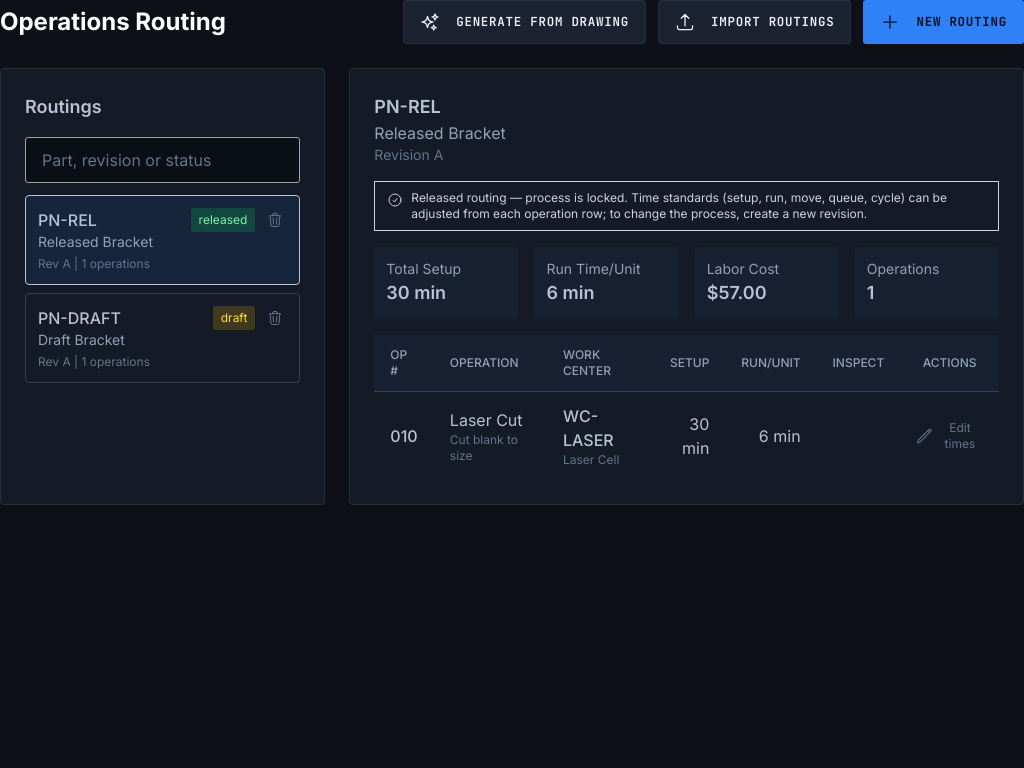
Test: Routing — released time-standard editing › surfaces the server message on a 400
Expected: the text "Laser Cut" is shown, top-left (450, 408), bottom-right (531, 432)
What coordinates should you click on to do the following:
click the button titled "Edit time standards"
I would click on:
 (950, 436)
Its box is top-left (916, 420), bottom-right (983, 452).
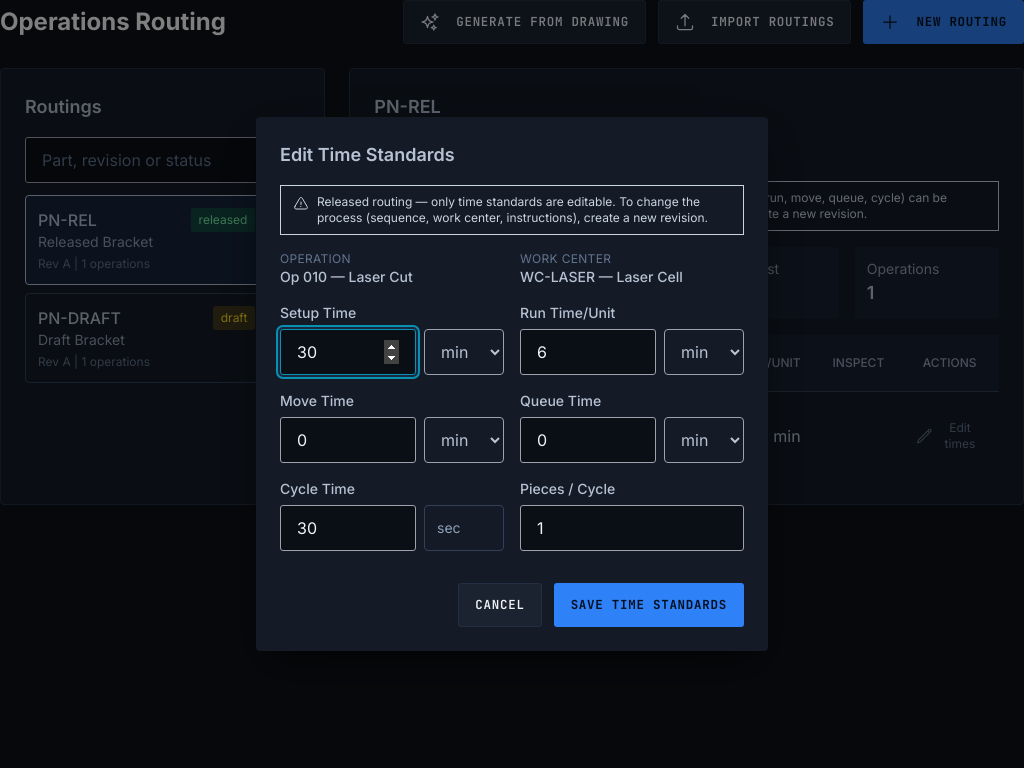
What coordinates should you click on to do the following:
click the button "Save Time Standards"
I would click on:
 (649, 605)
Its box is top-left (554, 583), bottom-right (744, 627).
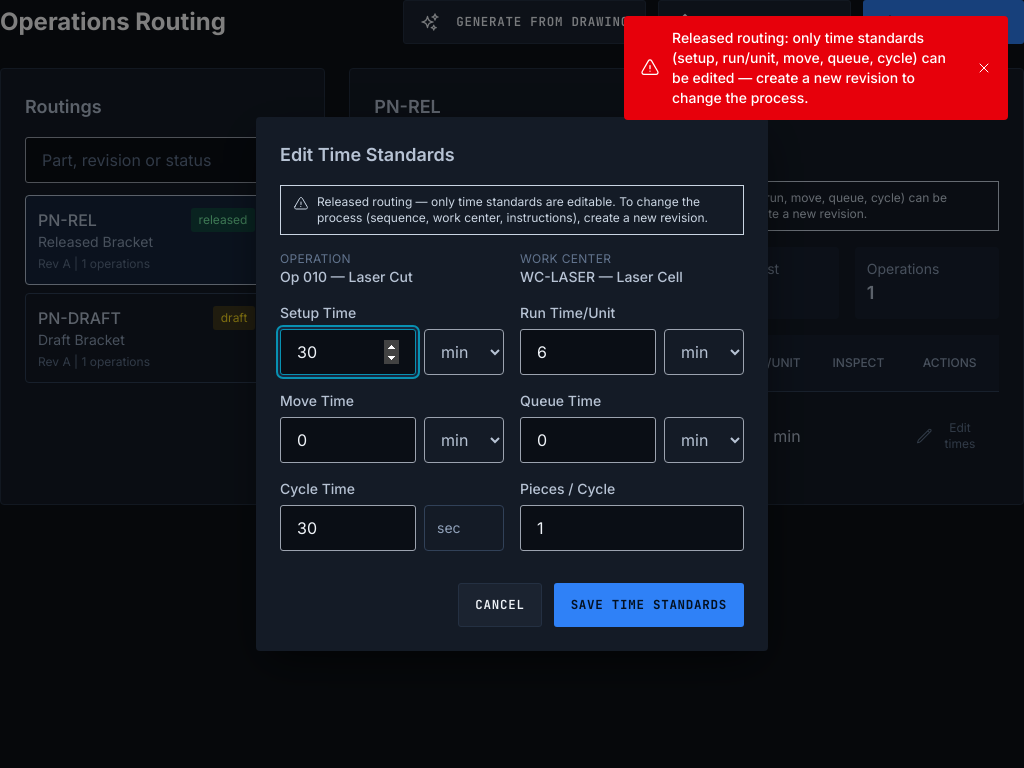
Expected: the text "Released routing: only time standards (setup, run/unit, move, queue, cycle) can be edited — create a new revision to cha" is shown, top-left (672, 29), bottom-right (946, 106)
